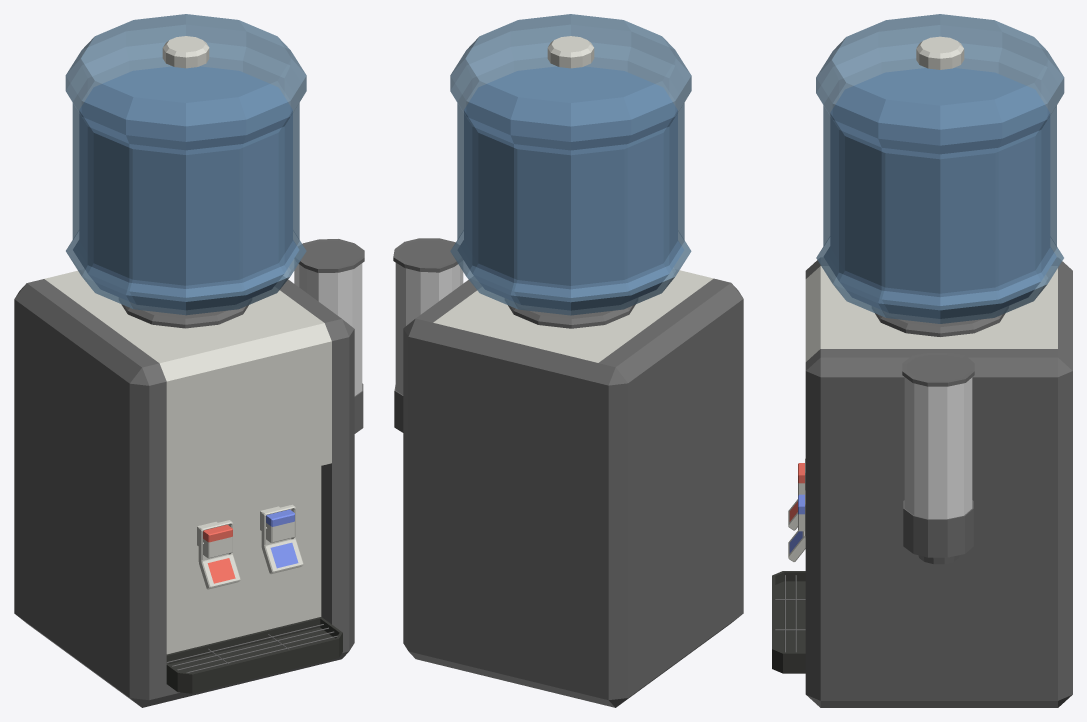
Rendered from WaterDispenser.fbx.
3 views of the same model, side by side, from view 1: azimuth 30°, elevation 25°; view 2: azimuth 150°, elevation 25°; view 3: azimuth 270°, elevation 25° (orthographic). The views are drawn at different scales.
Visible parts, largest first — view 1: Plane; view 2: Plane; view 3: Plane.
Part boxes in pixels (x1,y1,x2,y2): Plane: (14, 14, 364, 707); Plane: (393, 14, 743, 707); Plane: (772, 14, 1072, 707).
Size of the model in its own units: 10.92 by 21.69 by 9.63.
